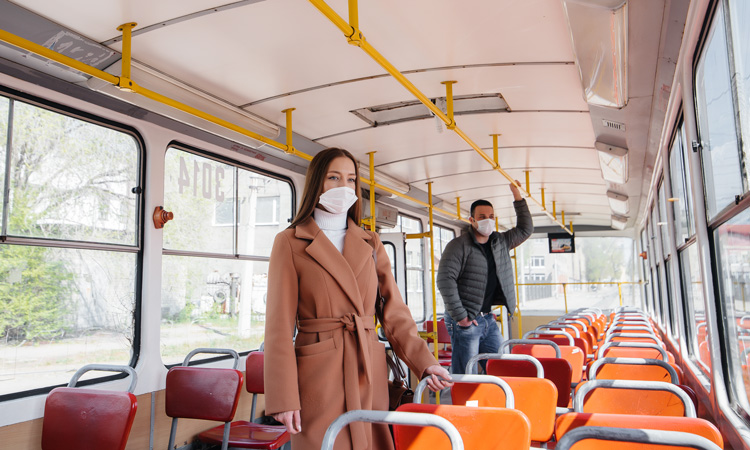Good: (255, 147, 534, 434)
